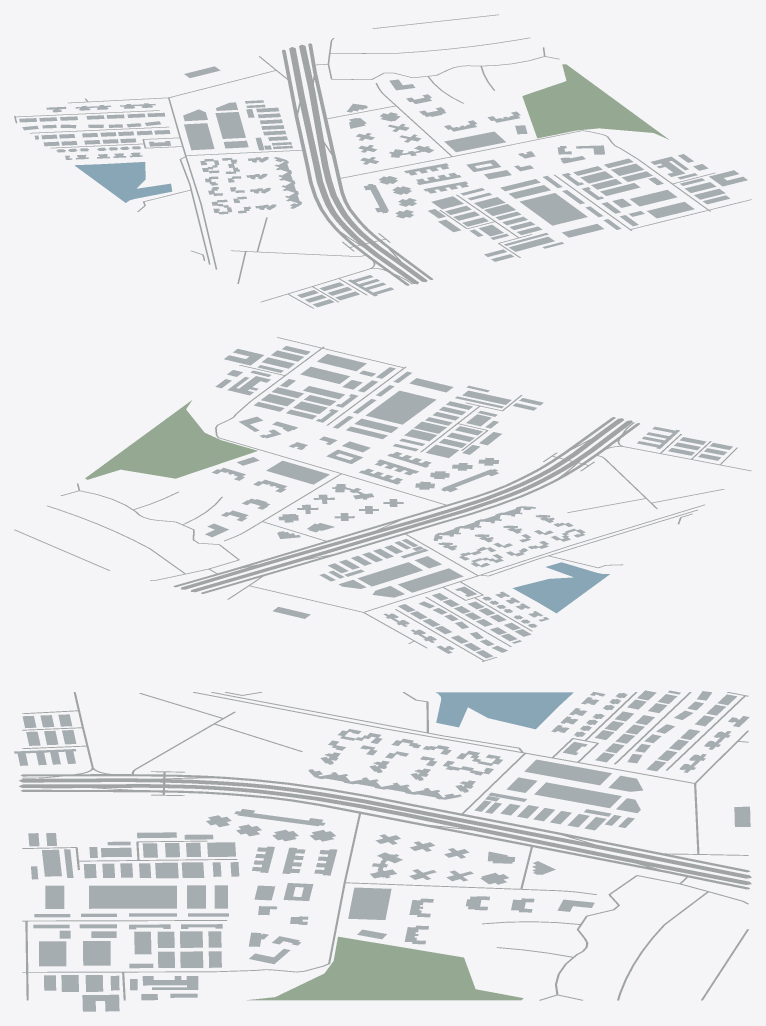
The model's file is -21_16-known-coarse.glb.
The picture shows the model from 3 angles, top to bottom: view 1: azimuth 30°, elevation 25°; view 2: azimuth 150°, elevation 25°; view 3: azimuth 270°, elevation 25°; orthographic projection. The views are drawn at different scales.
Bounding box in the file's own units: 1043 × 0.15 × 1012.
